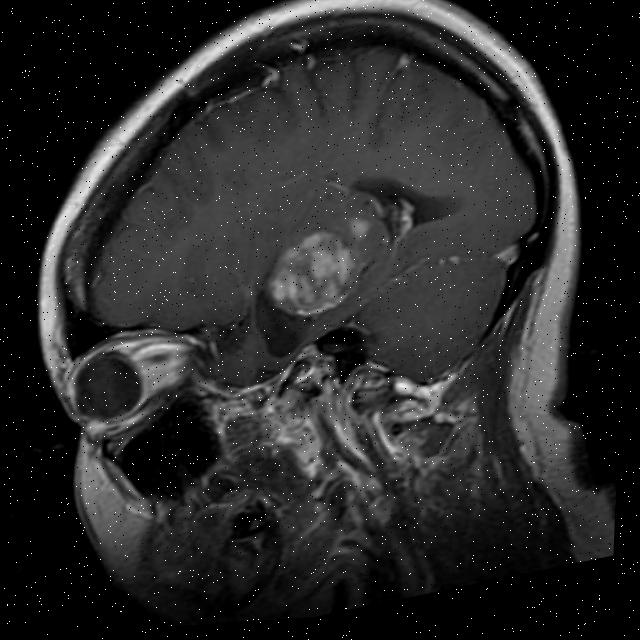Glioma: (258, 222, 364, 324)
